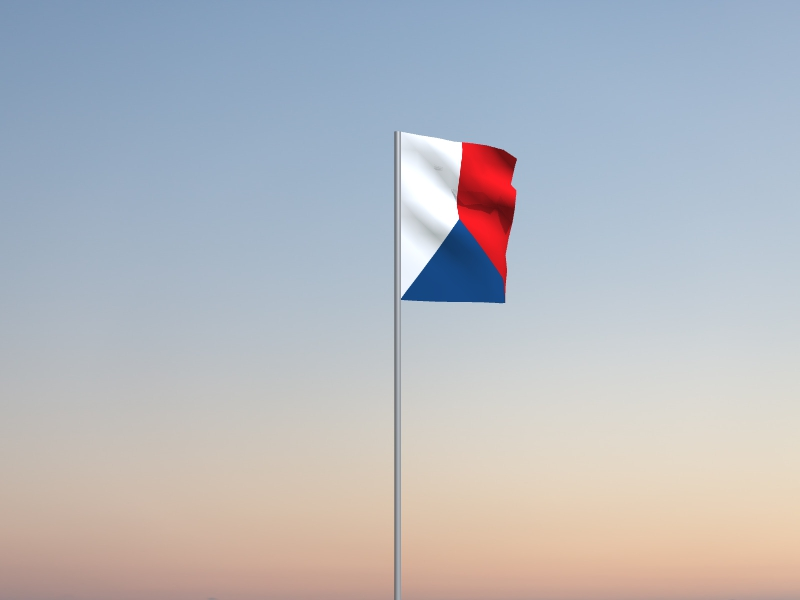cz: (401, 133, 519, 305)
